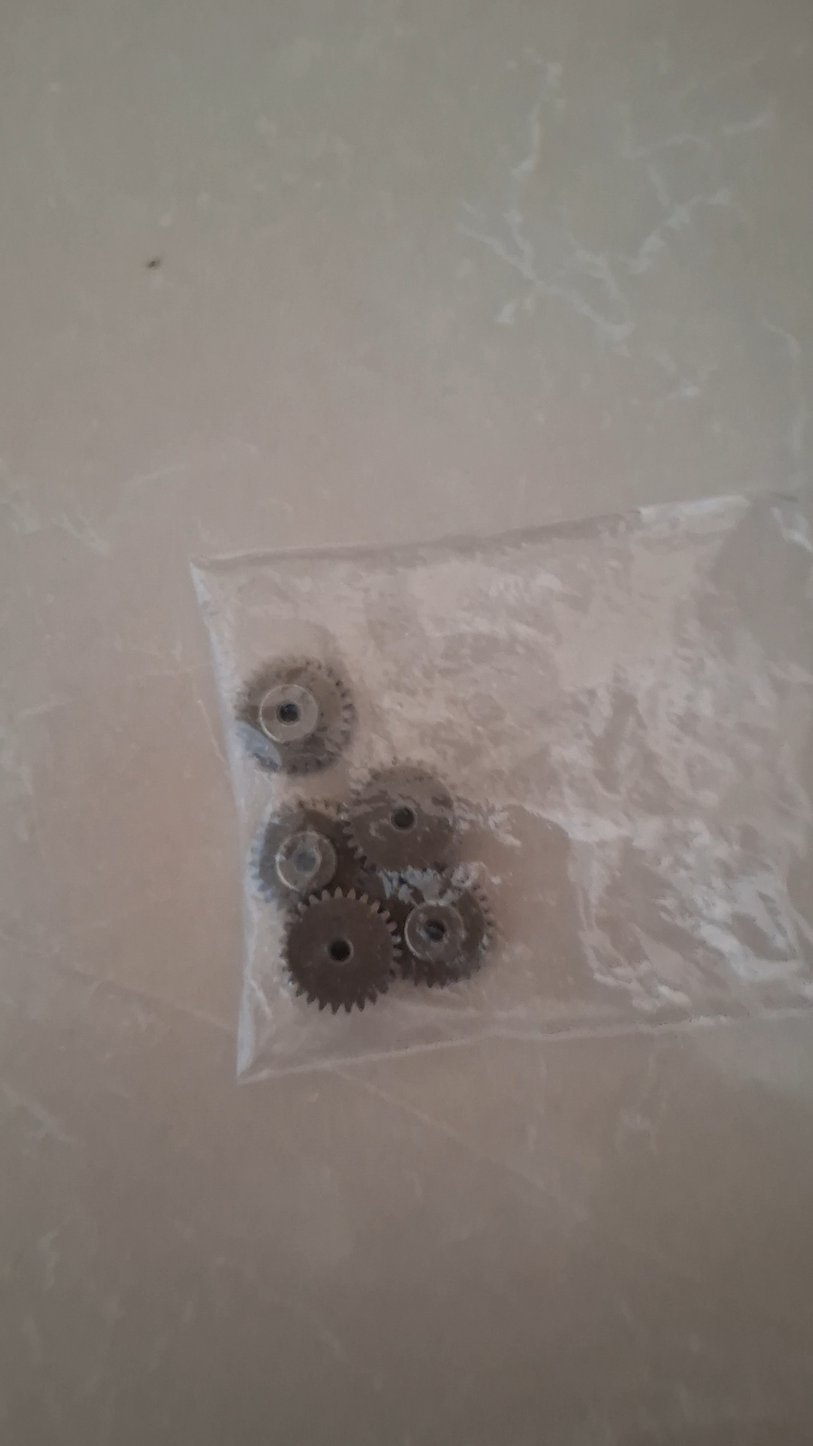spur gear: (285, 889, 399, 1013), (236, 659, 354, 774), (348, 765, 455, 872), (252, 803, 358, 906), (403, 876, 494, 985)
